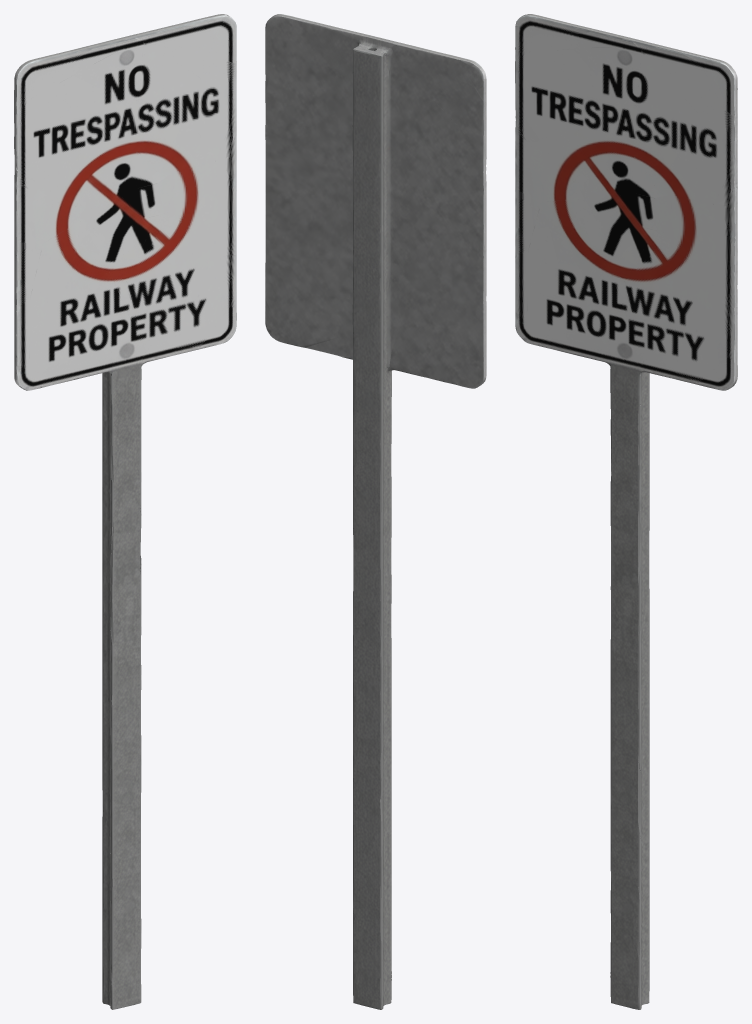
The model's file is A13_WarningSign.fbx.
3 views of the same model, side by side, from view 1: azimuth 30°, elevation 25°; view 2: azimuth 150°, elevation 25°; view 3: azimuth 330°, elevation 25° (orthographic).
Visible parts, largest first — view 1: WarningSign_mat; view 2: WarningSign_mat; view 3: WarningSign_mat.
Boxes of the visible parts, x1,y1,x2,y2 form: WarningSign_mat: [14, 14, 236, 1009]; WarningSign_mat: [265, 14, 486, 1009]; WarningSign_mat: [515, 14, 737, 1009].
Bounding box in the file's own units: 57.52 × 241 × 4.85.
1 material, 1 textured.
